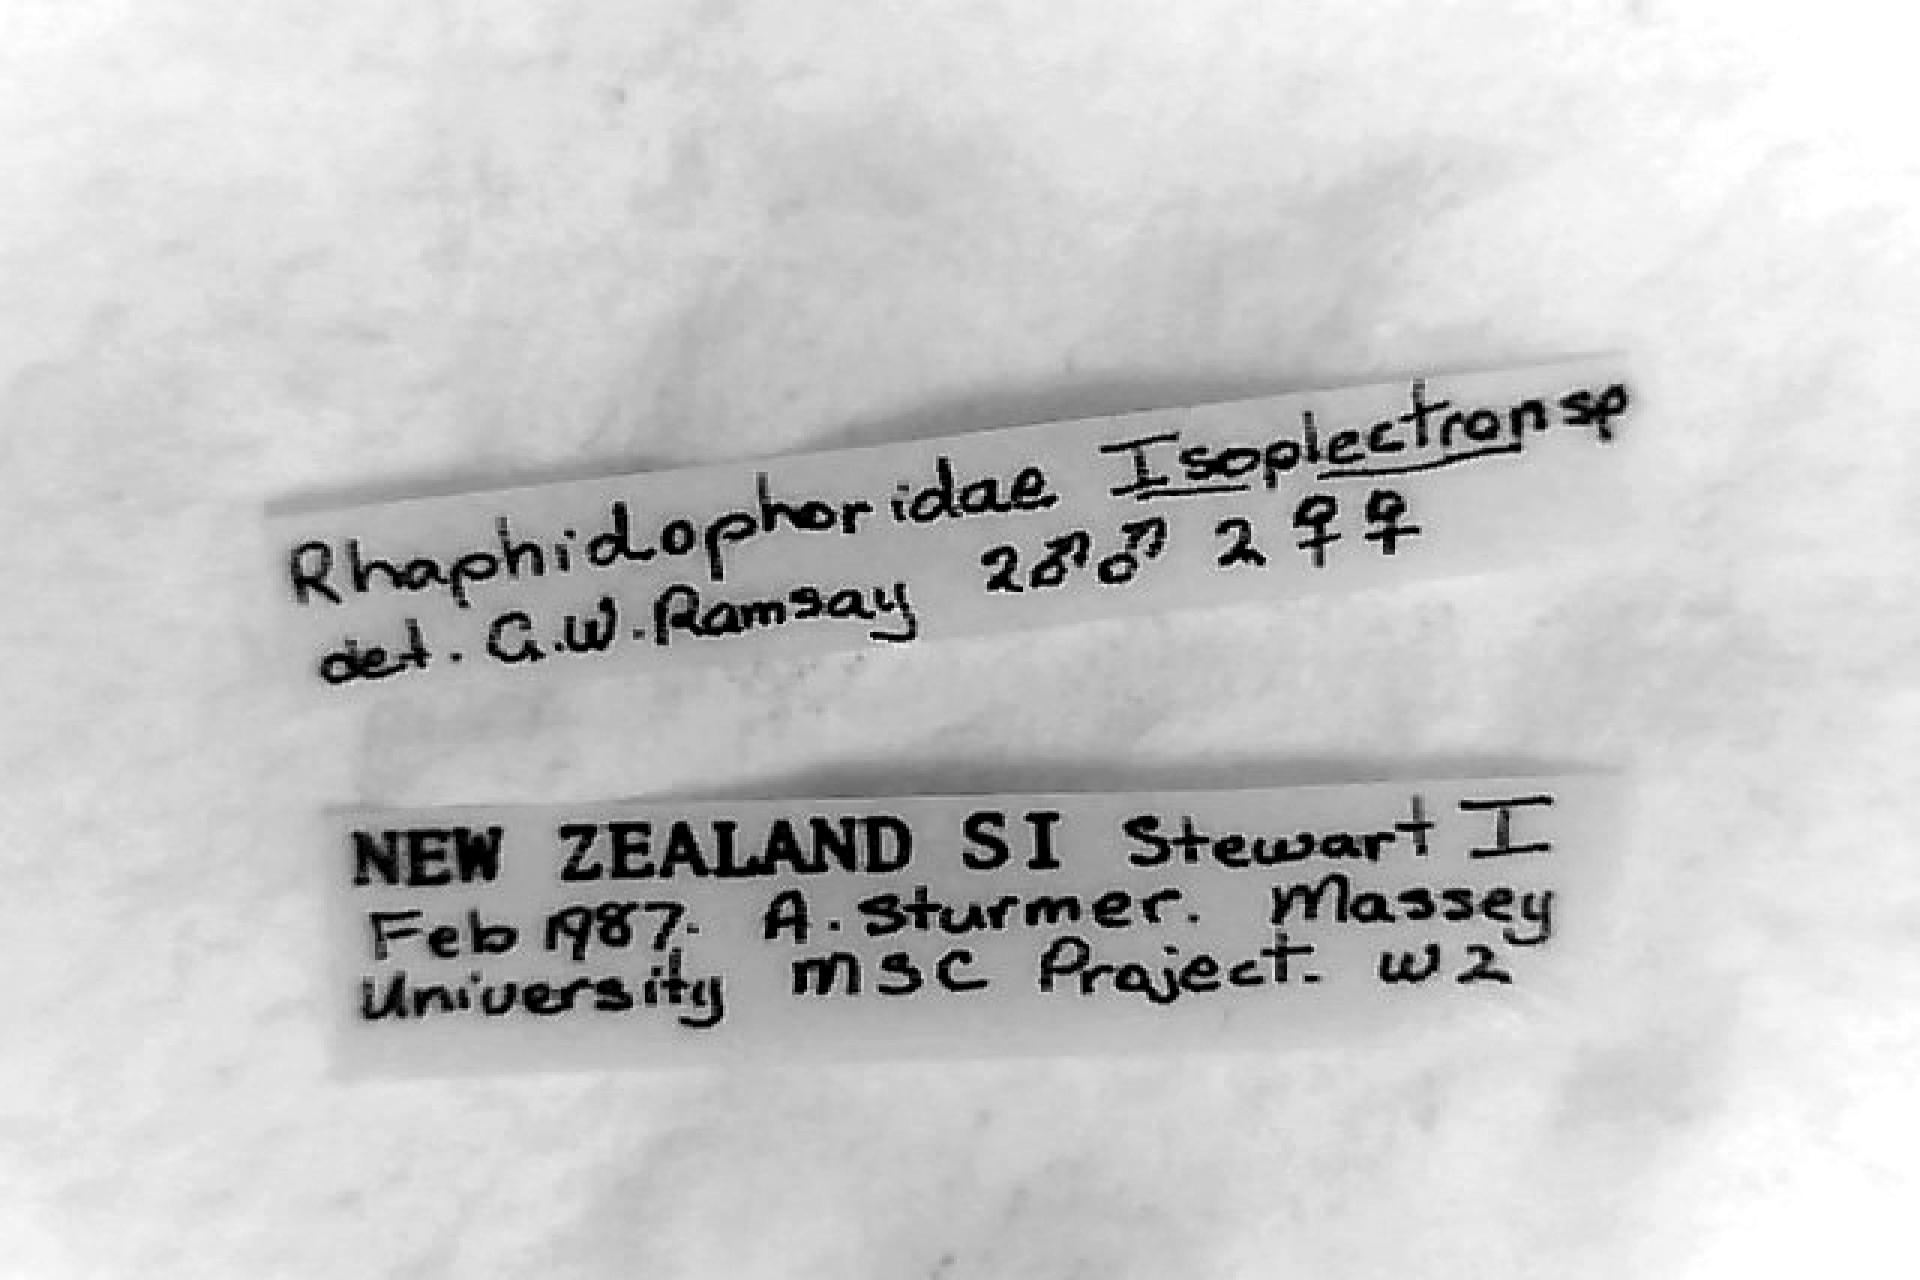hand_label: (270, 360, 1634, 690)
mixed_label: (331, 777, 1627, 1074)
